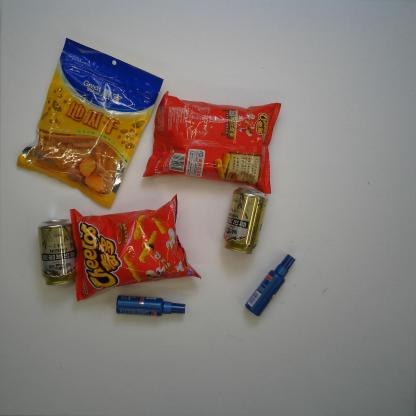Alcohol: (222, 187, 269, 255), (37, 218, 77, 286)
Dried Fruit: (15, 36, 164, 210)
Personal Hygiene: (245, 254, 296, 317), (115, 294, 186, 317)
Puffed Food: (140, 90, 283, 195), (70, 194, 202, 303)
